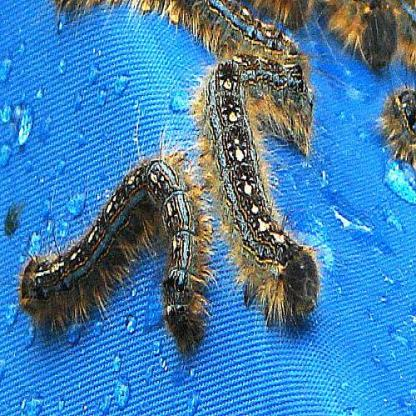armyworm: (50, 0, 318, 156), (18, 151, 210, 353), (190, 58, 319, 327), (323, 5, 416, 165)
